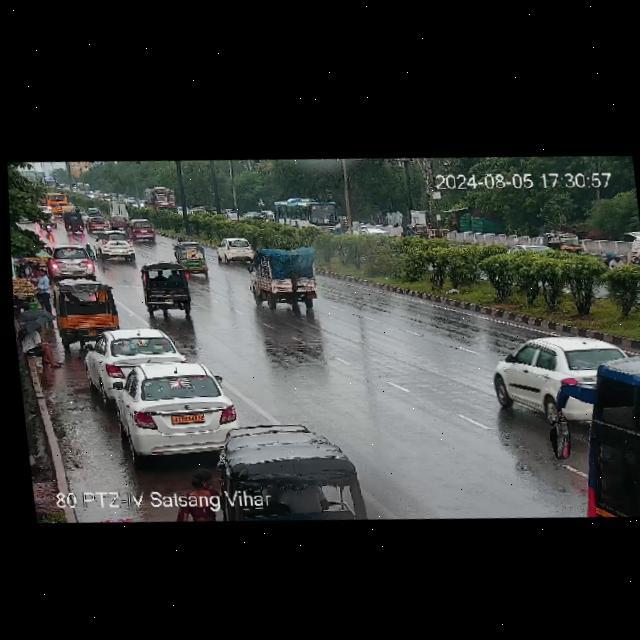bus: (566, 346, 640, 522), (274, 194, 345, 240), (43, 190, 67, 213)
car: (481, 317, 623, 426), (109, 357, 240, 467), (212, 417, 359, 494), (80, 319, 189, 405), (50, 277, 120, 353), (136, 260, 193, 321), (48, 241, 97, 281), (92, 227, 139, 264), (541, 228, 586, 259), (177, 239, 210, 280), (213, 235, 252, 267), (507, 237, 555, 260), (352, 222, 392, 243), (62, 209, 84, 238)
person: (16, 305, 63, 377), (37, 267, 55, 315), (16, 256, 32, 278)
truck: (242, 240, 324, 315), (143, 184, 178, 211), (127, 218, 156, 242), (60, 209, 85, 234), (85, 214, 108, 236), (107, 213, 130, 233), (107, 198, 129, 216)
